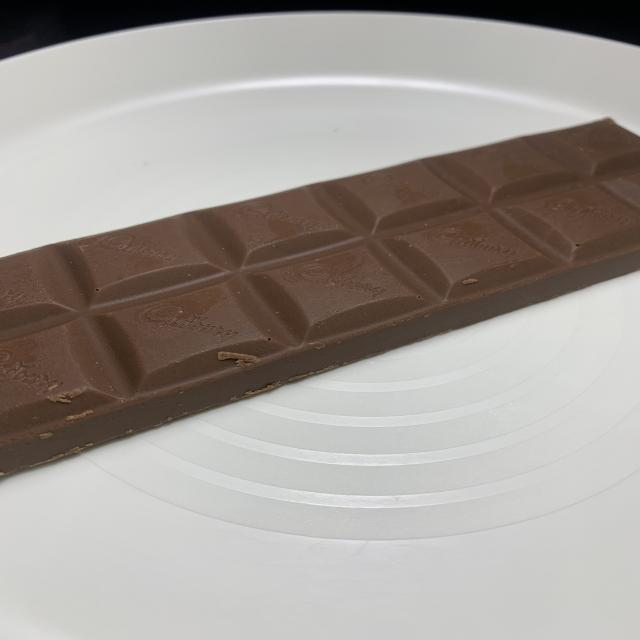Chocolate: (0, 115, 640, 488)
